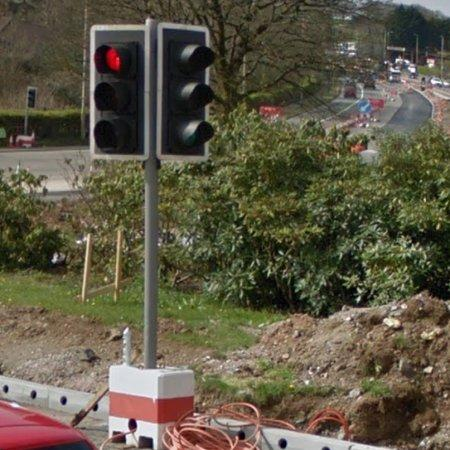traffic lights: (158, 23, 215, 161)
